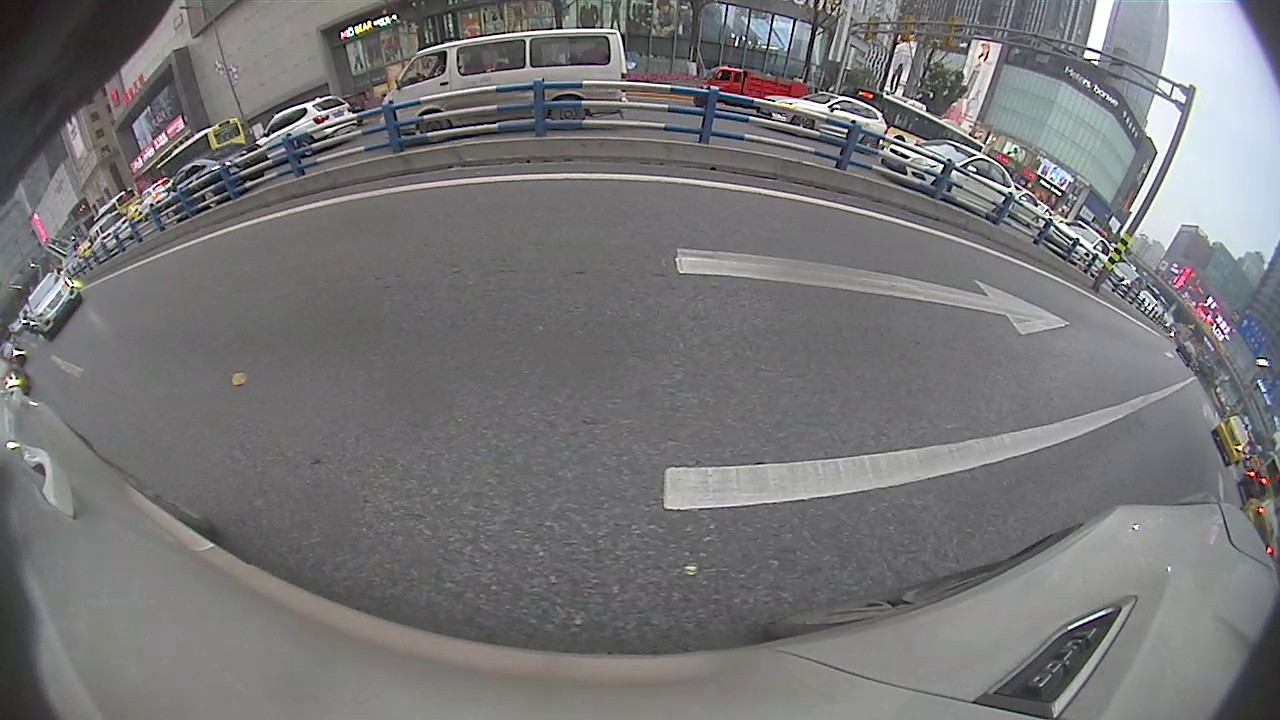car: (375, 25, 632, 146), (879, 136, 1020, 227), (149, 139, 273, 227), (757, 88, 891, 157), (25, 266, 85, 343)
front: (419, 114, 452, 147)
rear: (551, 97, 587, 130)
